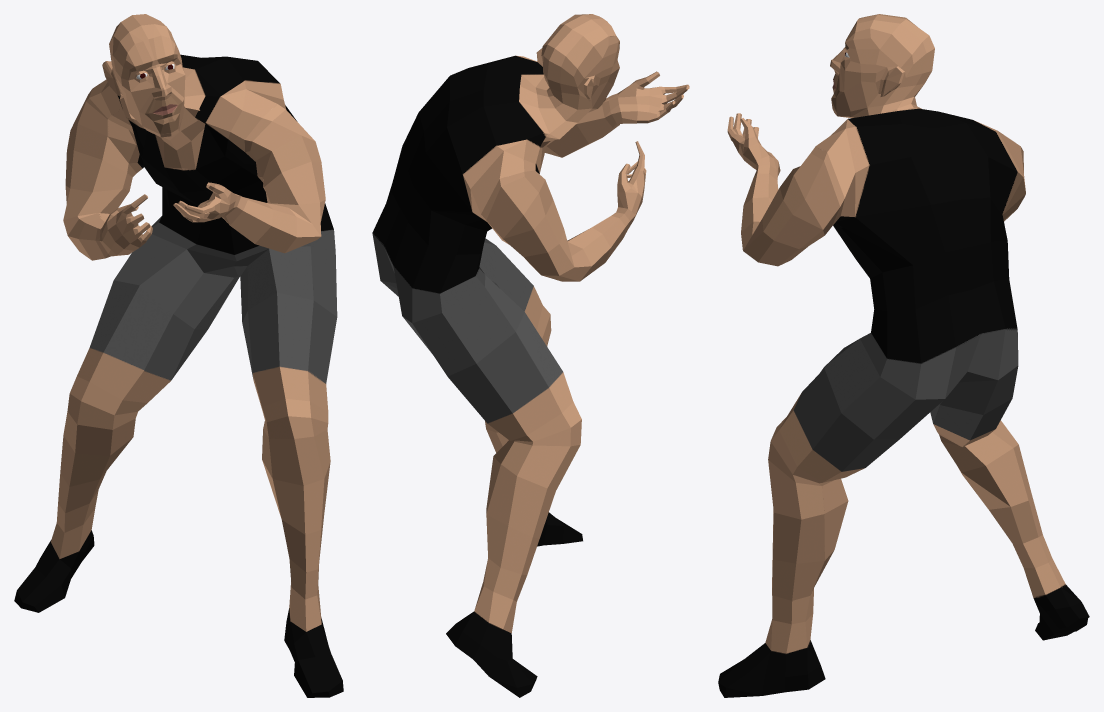
The model's file is PlayerDead(3).obj.
3 views of the same model, side by side, from view 1: azimuth 30°, elevation 25°; view 2: azimuth 150°, elevation 25°; view 3: azimuth 270°, elevation 25° (orthographic). The views are drawn at different scales.
Parts seen in each view (by area): view 1: Plane002; view 2: Plane002; view 3: Plane002.
Part boxes in pixels (x1,y1,x2,y2): Plane002: (14, 14, 343, 697); Plane002: (372, 14, 689, 697); Plane002: (718, 14, 1089, 697).
Size of the model in its own units: 638 by 1578 by 845.
